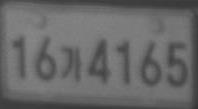1: (9, 34, 31, 78), (114, 41, 136, 83)
4: (88, 38, 111, 83)
5: (167, 42, 188, 87)
6: (140, 40, 162, 85), (35, 36, 56, 81)
가: (60, 45, 83, 82)
